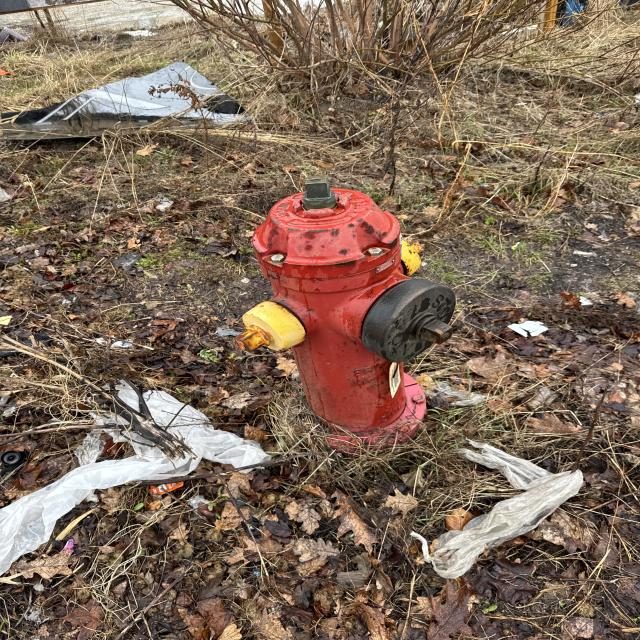Fire hydrant: (233, 175, 457, 456)
